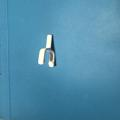u-shape: (38, 33, 56, 67)
